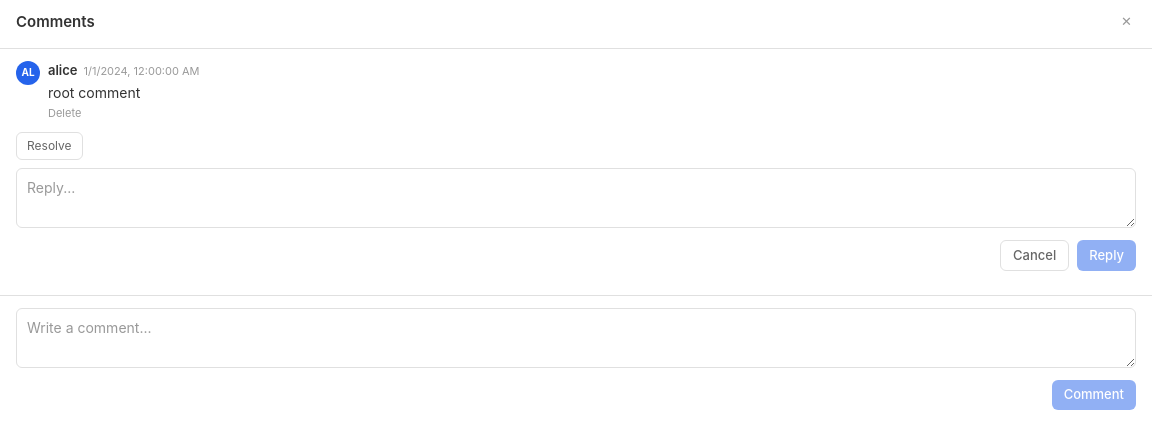
it: CommentThread › lets a workspace admin delete a comment they don't own
Click the button with class "comment-inline-btn".
click(65, 113)  # box [48,105,81,122]
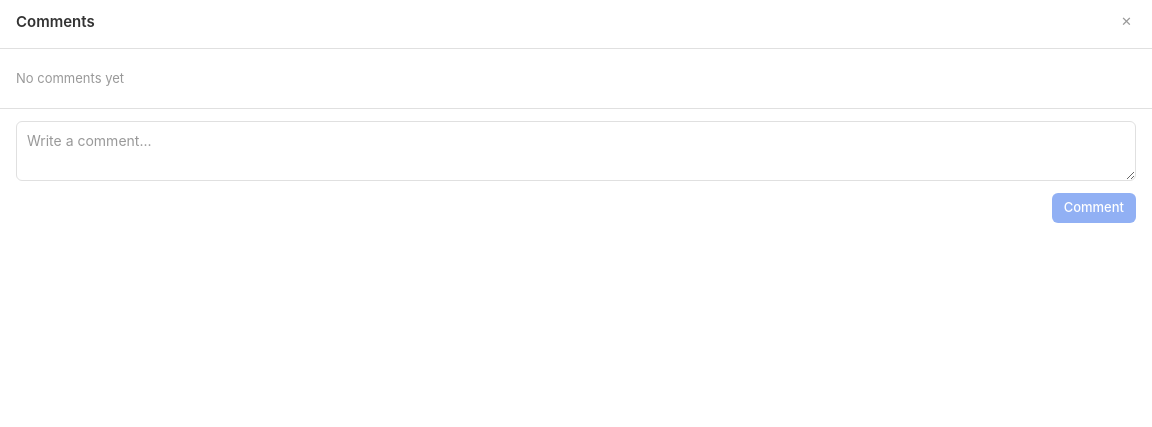
Expected: the text "root comment" is gone
